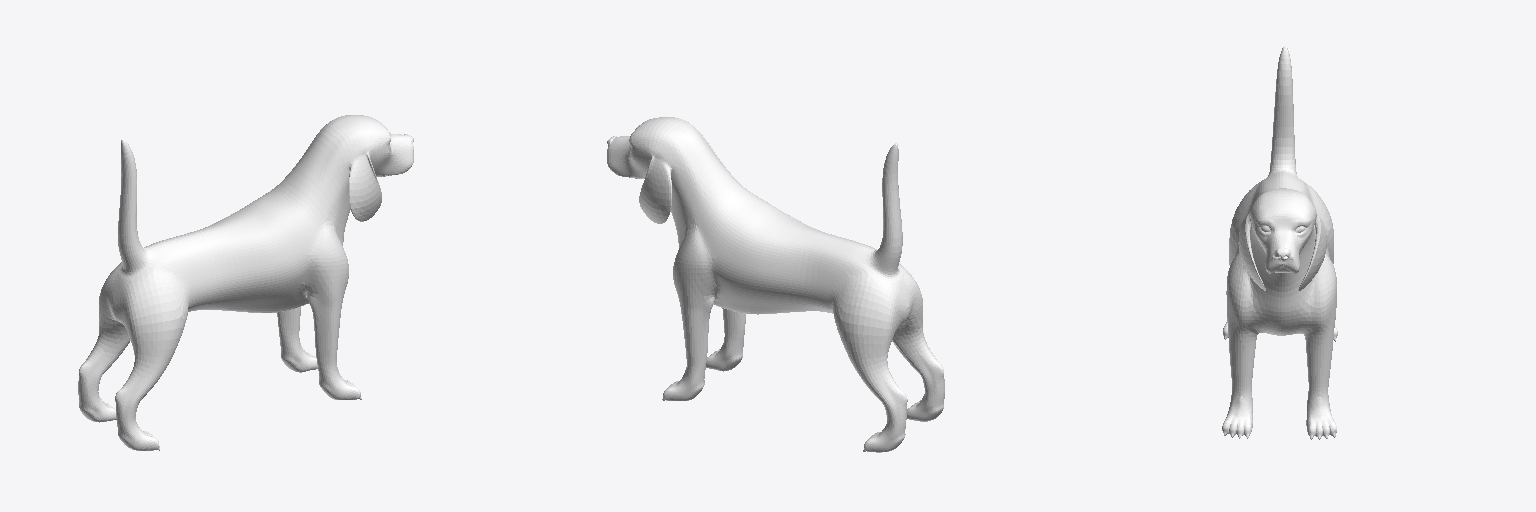
Rendered from beagle_origin.obj.
The picture shows the model from 3 angles: view 1: azimuth 30°, elevation 25°; view 2: azimuth 150°, elevation 25°; view 3: azimuth 270°, elevation 25°; orthographic projection.
Parts seen in each view (by area): view 1: beagle.002; view 2: beagle.002; view 3: beagle.002.
Boxes of the visible parts, box(x1,y1,x2,y2) form: beagle.002: box(78, 115, 413, 450); beagle.002: box(607, 117, 944, 452); beagle.002: box(1222, 46, 1337, 439).
Bounding box in the file's own units: 26.34 × 23.24 × 8.34.